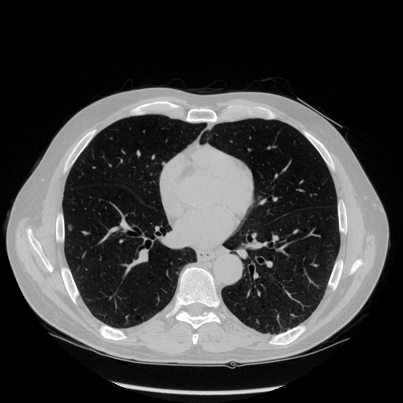nodule: (67, 224, 73, 230)
